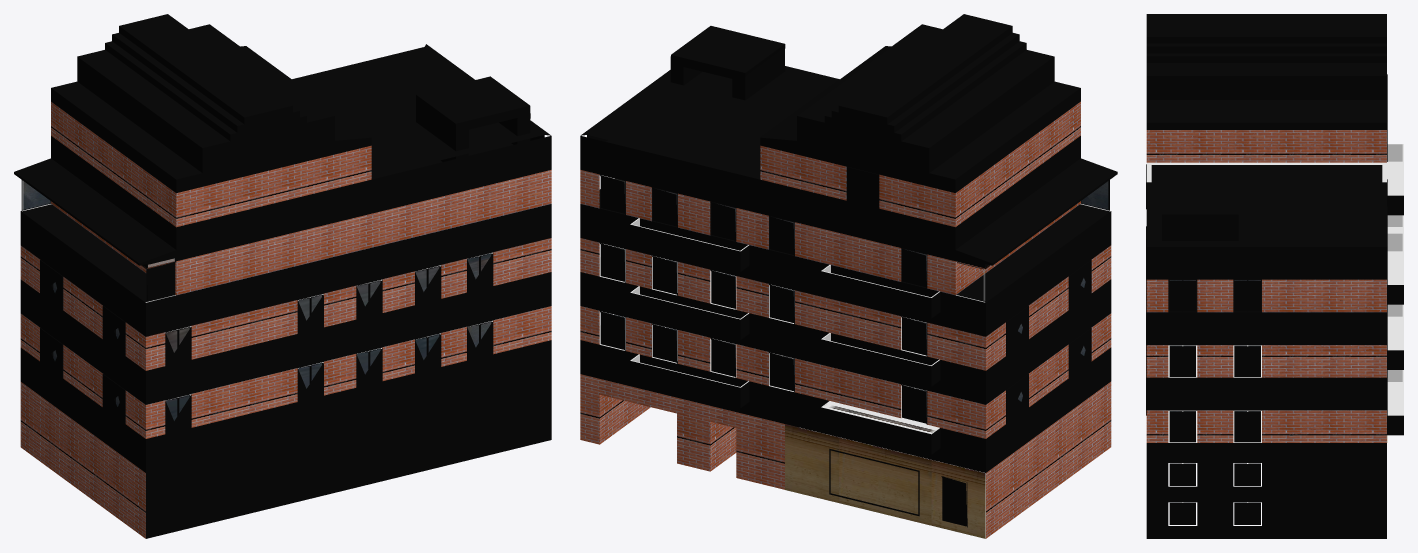
3 renders of one model, left to right at view 1: azimuth 30°, elevation 25°; view 2: azimuth 150°, elevation 25°; view 3: azimuth 270°, elevation 25°, orthographic. The views are drawn at different scales.
Visible parts, largest first — view 1: object 212, object 224, object 222, object 220, object 129, object 221, object 210, object 209, object 118, object 223, object 133, object 131 (+38 smaller); view 2: object 212, object 220, object 222, Rectangle026, object 210, object 209, object 118, object 221, object 211, object 225, object 131, object 205 (+64 smaller); view 3: object 212, object 224, object 222, object 220, object 134, object 209, object 221, object 181, object 145, object 165, object 210, object 214 (+31 smaller).
Part boxes in pixels (box(x1,y1,x2,y2)): object 212: box(51, 14, 550, 192); object 224: box(146, 360, 551, 538); object 222: box(20, 292, 551, 459); object 220: box(20, 224, 551, 391); object 129: box(176, 170, 551, 295); object 221: box(20, 204, 551, 322); object 210: box(14, 156, 551, 265); object 209: box(51, 136, 551, 247); object 118: box(20, 382, 145, 538); object 223: box(176, 106, 371, 192); object 133: box(176, 145, 371, 227); object 131: box(51, 102, 176, 226); object 212: box(581, 14, 1080, 192); object 220: box(580, 224, 1111, 391); object 222: box(580, 292, 1111, 459); Rectangle026: box(785, 424, 985, 538); object 210: box(580, 156, 1117, 265); object 209: box(580, 136, 1080, 247); object 118: box(986, 381, 1111, 538); object 221: box(580, 204, 1111, 322); object 211: box(760, 106, 955, 192); object 225: box(580, 360, 1111, 472); object 131: box(955, 101, 1080, 226); object 205: box(599, 178, 1108, 301); object 212: box(1146, 14, 1386, 246); object 224: box(1146, 462, 1386, 538); object 222: box(1146, 397, 1386, 462); object 220: box(1146, 332, 1386, 397); object 134: box(1146, 130, 1386, 162); object 209: box(1146, 247, 1386, 266); object 221: box(1146, 312, 1386, 331); object 181: box(1262, 279, 1386, 312); object 145: box(1262, 345, 1386, 377); object 165: box(1262, 410, 1386, 442); object 210: box(1146, 266, 1386, 279); object 214: box(1162, 179, 1238, 214).
Bounding box in the file's own units: 19025 × 17500 × 10725.
9 materials, 5 textured.
